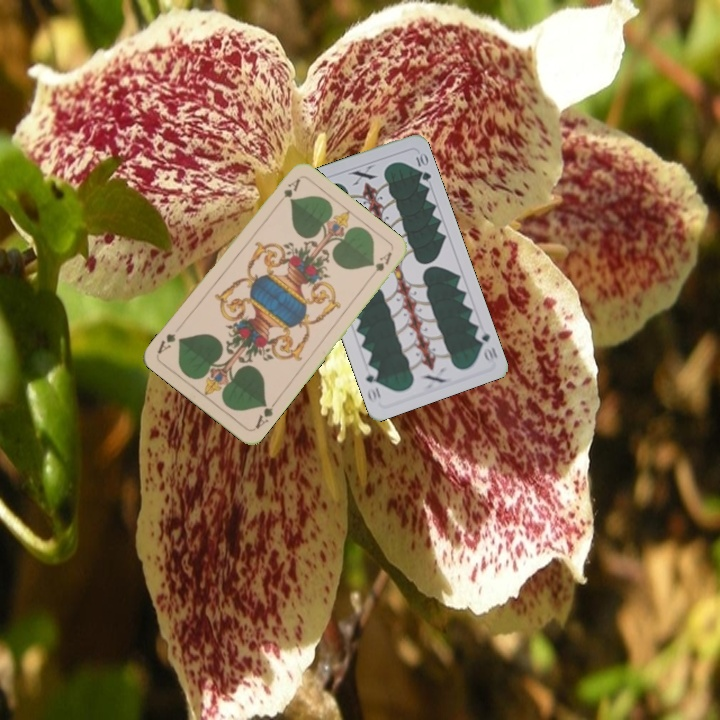G10: (471, 324, 500, 365)
GA: (272, 174, 303, 209), (251, 397, 279, 432)
